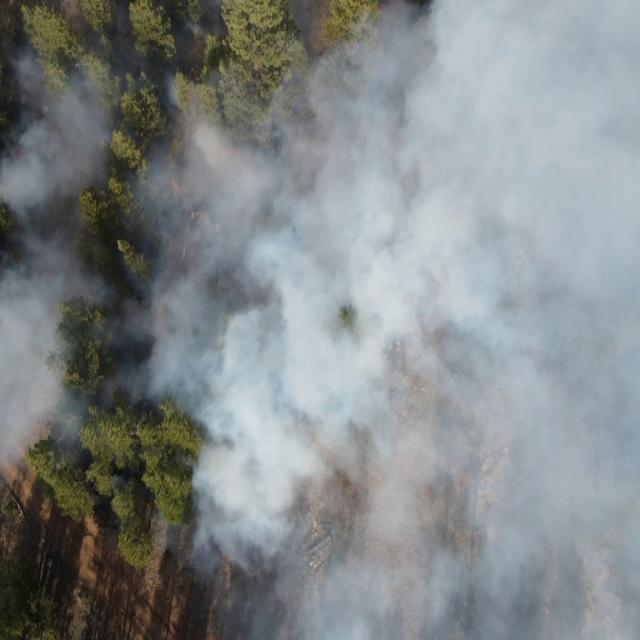smoke: (378, 2, 640, 640), (147, 50, 377, 446), (0, 55, 119, 451), (192, 451, 373, 640)
